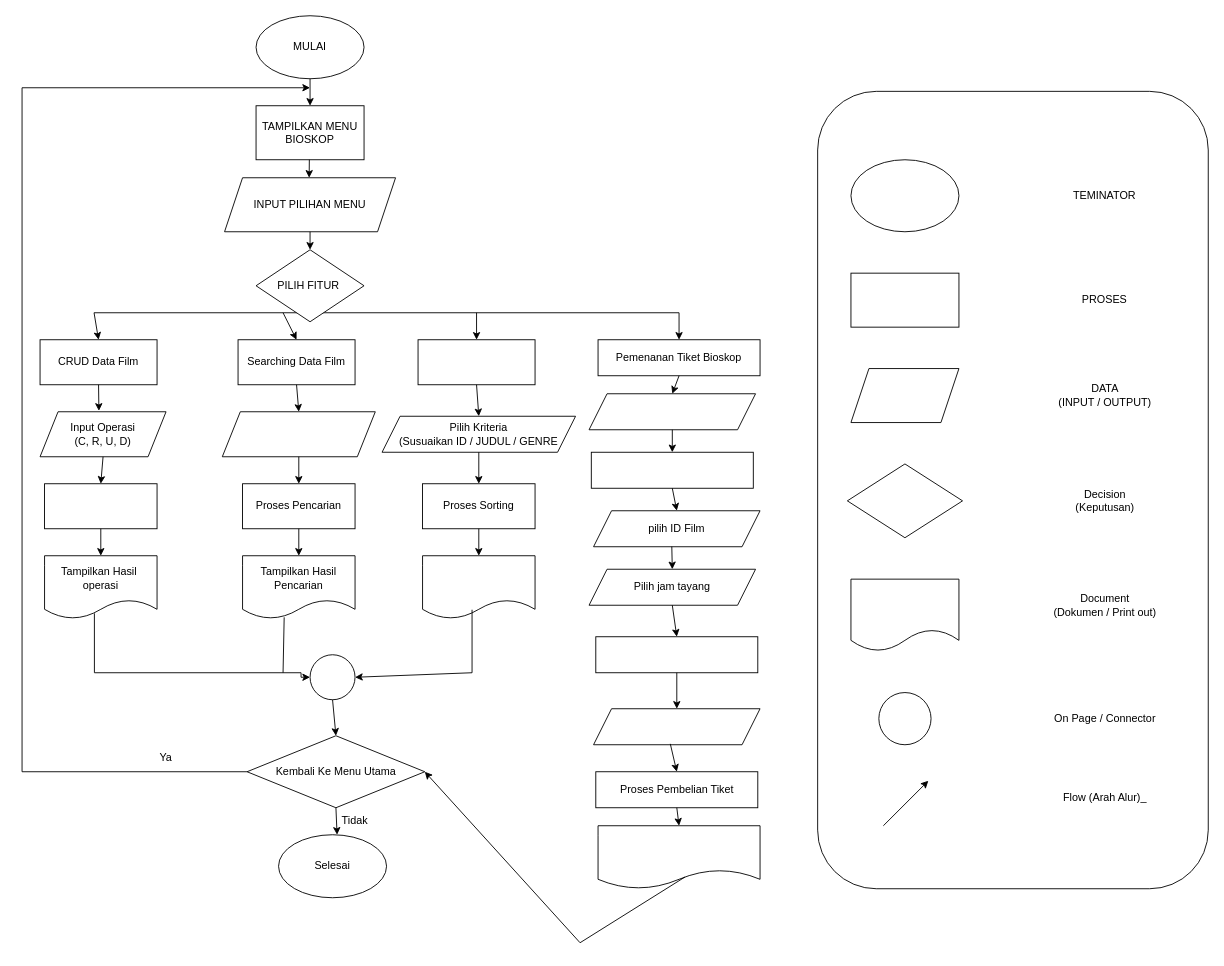
The diagram is 1224 pixels wide and 966 high, and some of its shapes have lost their labels. The shapes that lost their labels are listed below. From the top down, each one's centre as x and y in pixels, then its label:
At [476,362]: "Sorting Data Film".
At [672,411]: "Pilih Hari Tayang".
At [298,434]: "Input Kata Kunci".
At [671,469]: "Tampilkan Film Sesuai Hari".
At [100,506]: "Proses Operasi Data Film".
At [478,587]: "Tampilkan Hasil Sorting".
At [676,654]: "Tampilkan Tempat duduk".
At [676,726]: "Pilih Kursi".
At [678,857]: "Cetak Struk Tiket".
